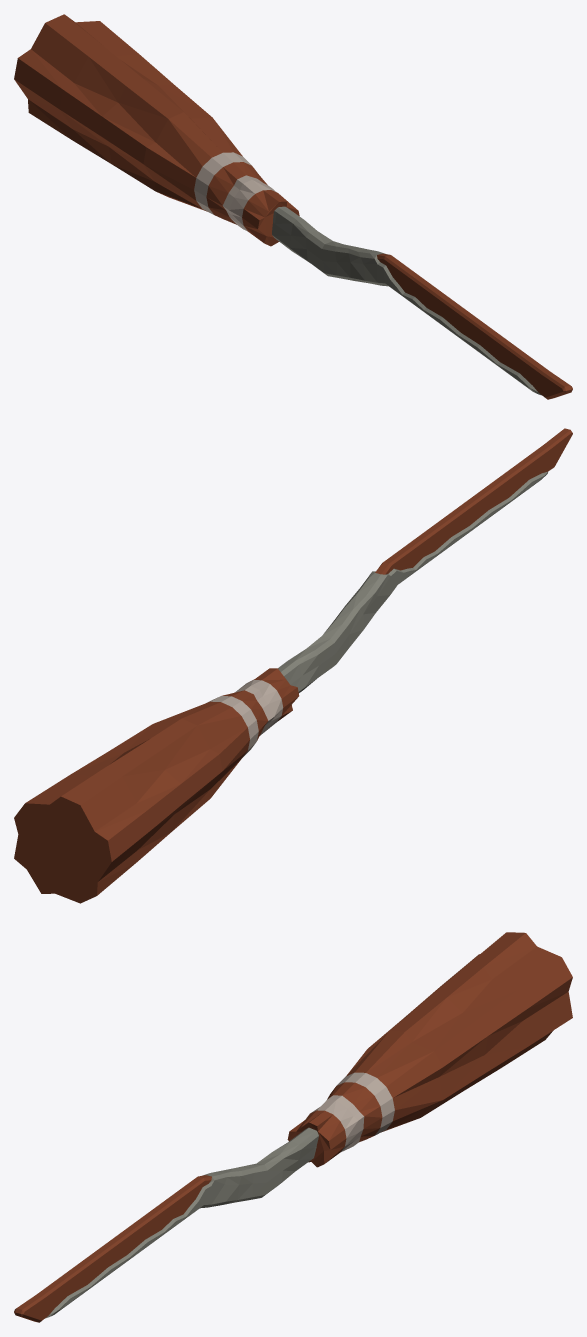
File: firebolt.obj
3 renders of one model, top to bottom at view 1: azimuth 30°, elevation 25°; view 2: azimuth 150°, elevation 25°; view 3: azimuth 330°, elevation 25°, orthographic.
Visible parts, largest first — view 1: Body; view 2: Body; view 3: Body.
Part boxes in pixels (x1=…): Body: x1=14, y1=14, x2=572, y2=399; Body: x1=14, y1=428, x2=572, y2=903; Body: x1=14, y1=932, x2=572, y2=1322.
Size of the model in its own units: 0.7153 by 0.7153 by 6.44.
